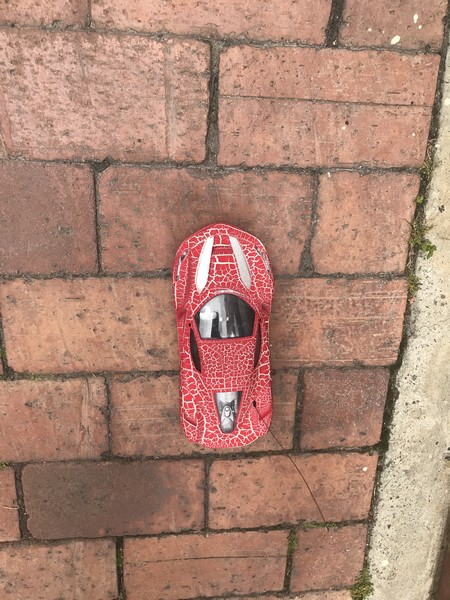RC: (169, 222, 275, 451)
